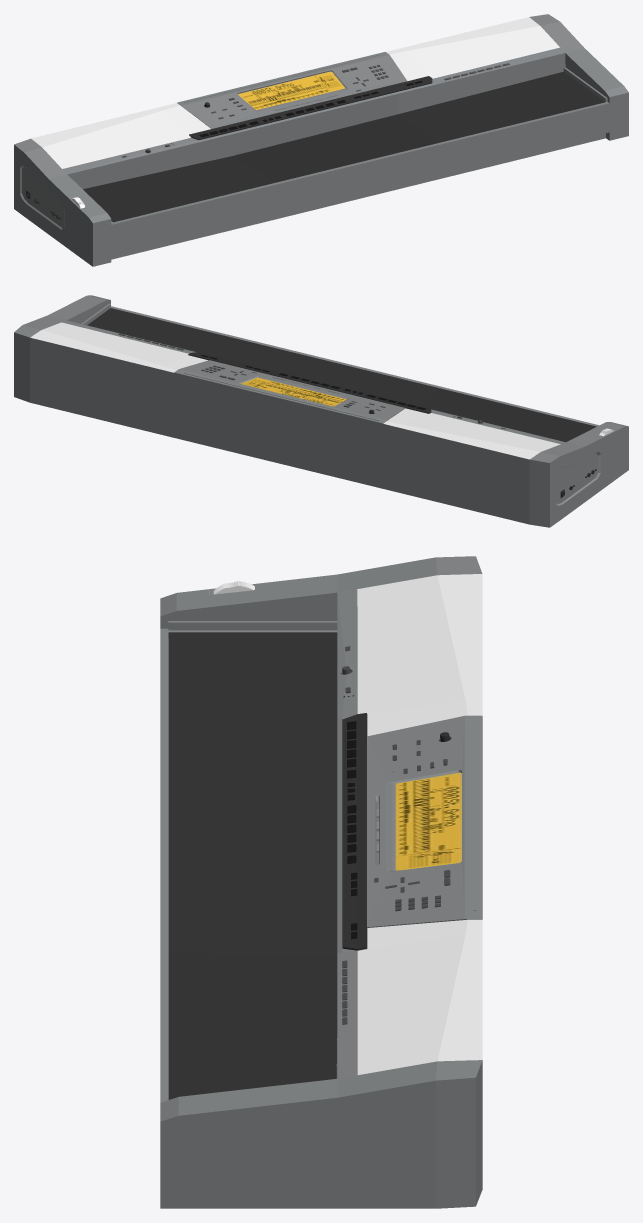
File: casio_basis.glb
3 views of the same model, one above another, from view 1: azimuth 30°, elevation 25°; view 2: azimuth 150°, elevation 25°; view 3: azimuth 270°, elevation 25° (orthographic). The views are drawn at different scales.
Visible parts, largest first — view 1: base; view 2: base; view 3: base.
Part boxes in pixels (box(x1,y1,x2,y2)): base: box(14, 14, 628, 266); base: box(14, 295, 628, 527); base: box(160, 556, 482, 1208).
Bounding box in the file's own units: 134 × 15.9 × 34.9.
Materials: 14 (1 with a texture image).
